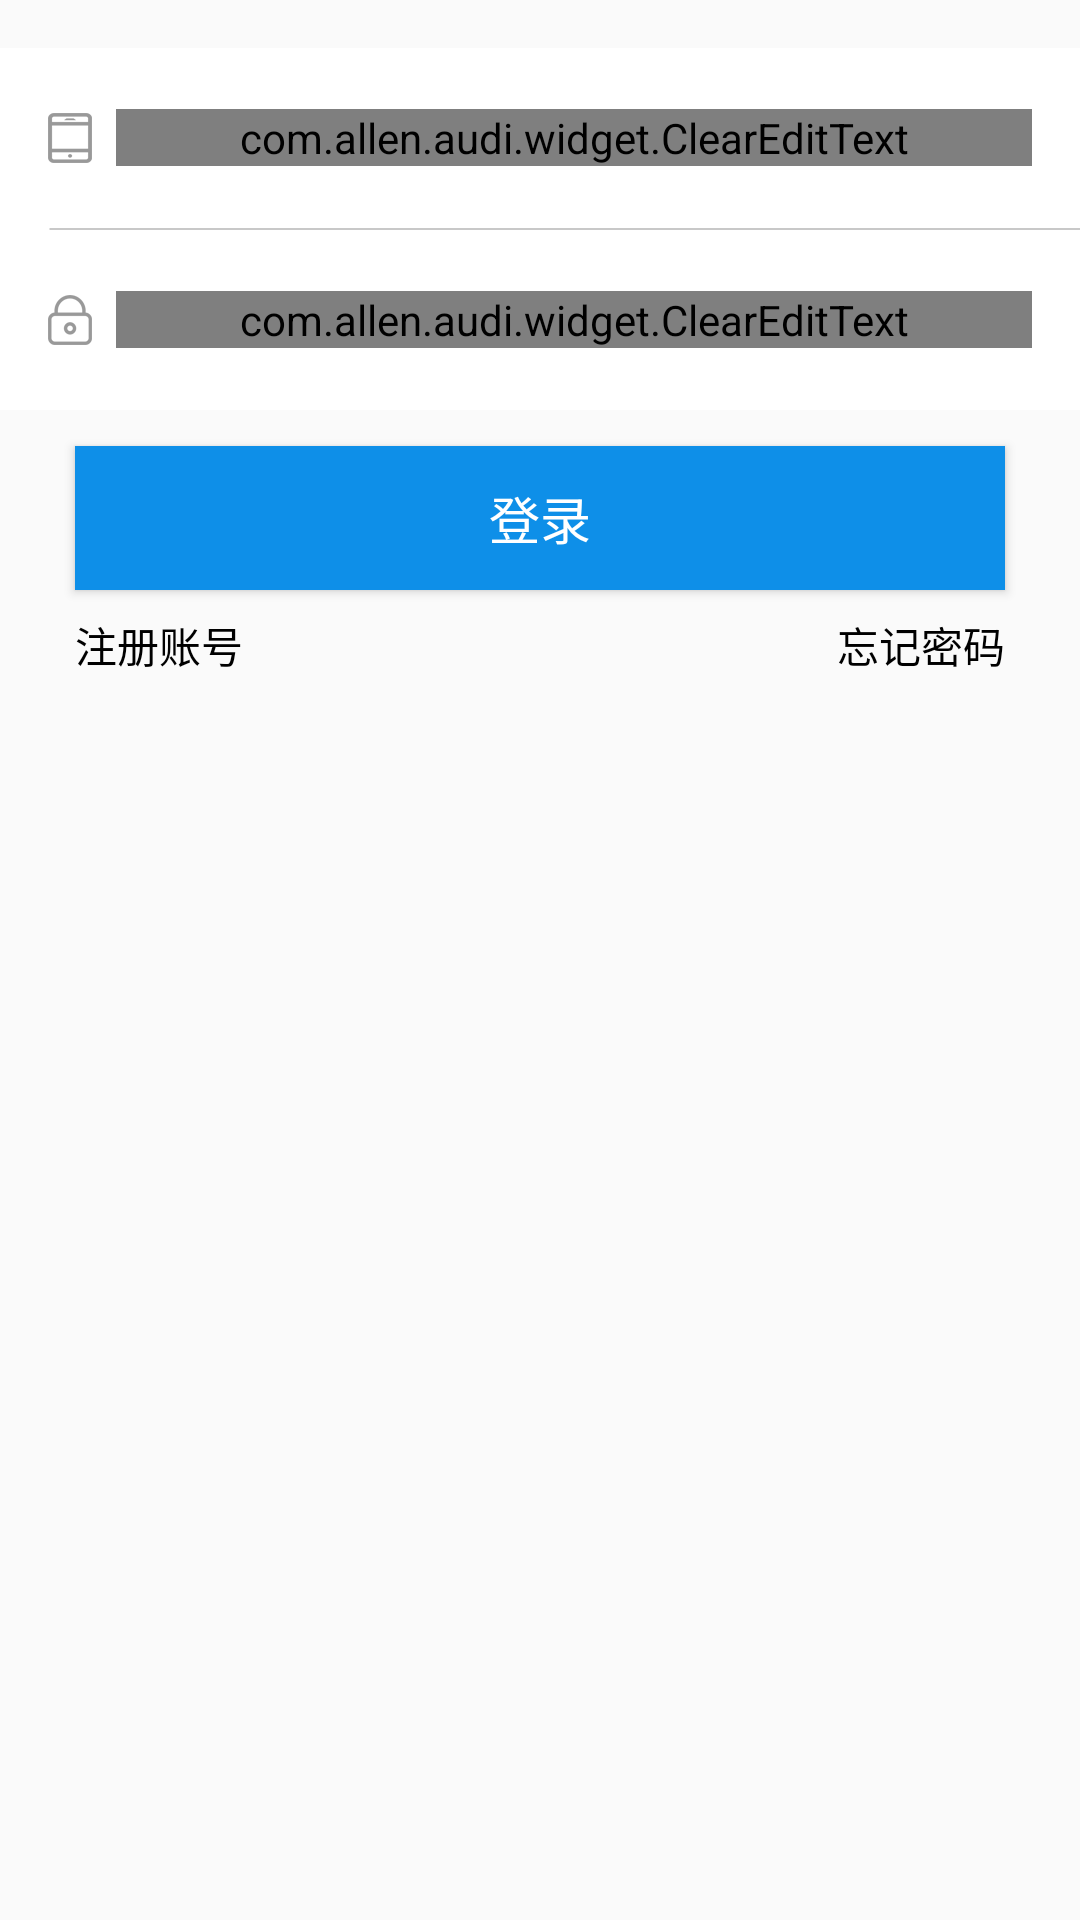

Icon click points for this 1080×1920 phone screenshot, format (x,y):
login key: (70,320)
